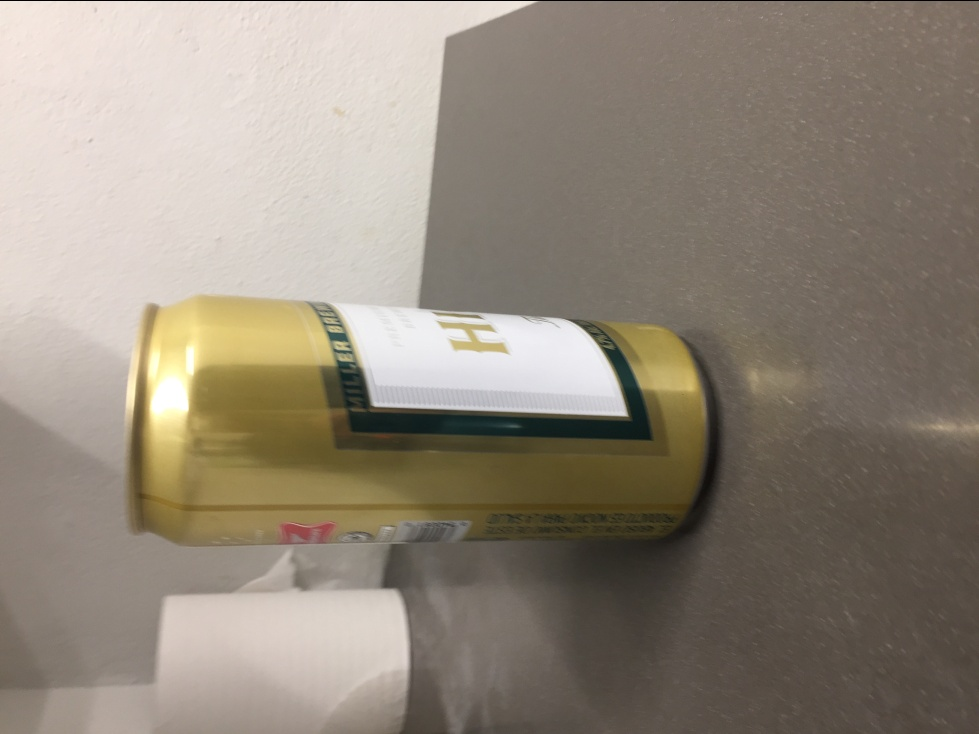miller: (122, 288, 717, 549)
